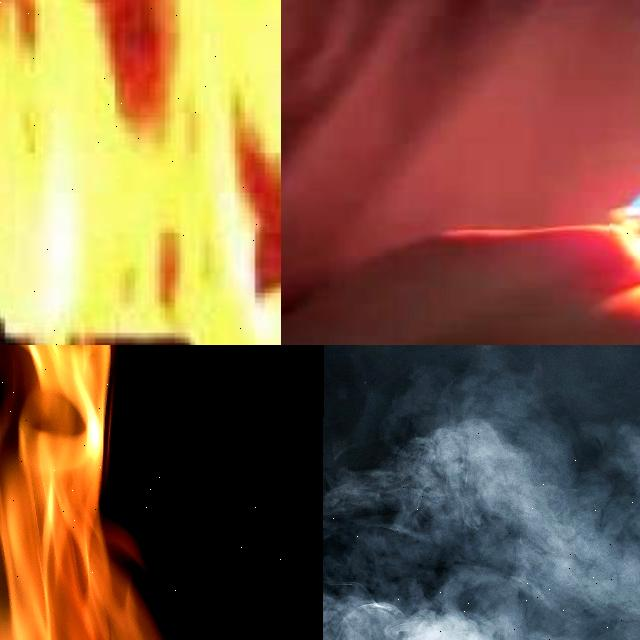fire: (0, 0, 281, 345), (0, 345, 162, 640)
smoke: (324, 418, 640, 640)
